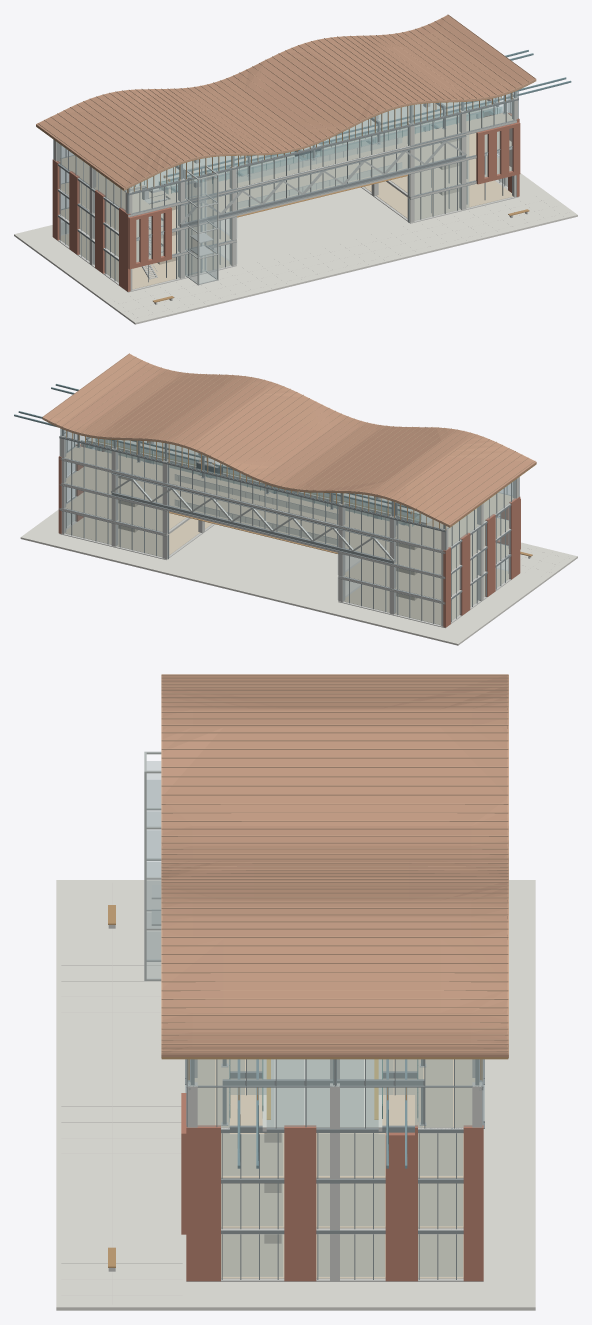
File: T1_Xinhua_Gate_V02.glb
3 renders of one model, top to bottom at view 1: azimuth 30°, elevation 25°; view 2: azimuth 150°, elevation 25°; view 3: azimuth 270°, elevation 25°, orthographic. The views are drawn at different scales.
Parts seen in each view (by area): view 1: COPPER_WAVE_ROOF_0001, DISPLAY_PLINTH_0001, FLOOR_FINISH_0005, FLOOR_FINISH_0006, STATION_PLATFORM_FINISH_0001, FLOOR_FINISH_0002, FRONT_BRICK_PIERS_0002, FRONT_BRICK_PIERS_0001, FLOOR_FINISH_0001, FLOOR_FINISH_0004, STATION_OUTER_GUARD_0001, FLOOR_FINISH_0003 (+30 smaller); view 2: COPPER_WAVE_ROOF_0001, DISPLAY_PLINTH_0001, FLOOR_FINISH_0005, FLOOR_FINISH_0006, FLOOR_FINISH_0002, FLOOR_FINISH_0003, FLOOR_FINISH_0001, FLOOR_FINISH_0004, STATION_PLATFORM_FINISH_0001, BACK_ROOF_EDGE_0001, FLOOR_SLABS_0005_transfer, FLOOR_SLABS_0006_transfer (+26 smaller); view 3: COPPER_WAVE_ROOF_0001, DISPLAY_PLINTH_0001, FLOOR_FINISH_0005, FLOOR_FINISH_0004, FLOOR_FINISH_0002, STATION_PLATFORM_FINISH_0001, SIDE_BRICK_WALLS_0005, FLOOR_FINISH_0006, SIDE_BRICK_WALLS_0006, SIDE_BRICK_WALLS_0007, SIDE_BRICK_WALLS_0008, SIDE_GLAZING_0010 (+24 smaller).
Boxes of the visible parts, box(x1,y1,x2,y2) form: COPPER_WAVE_ROOF_0001: box(36, 15, 534, 189); DISPLAY_PLINTH_0001: box(14, 173, 577, 324); FLOOR_FINISH_0005: box(61, 115, 511, 237); FLOOR_FINISH_0006: box(59, 113, 513, 212); STATION_PLATFORM_FINISH_0001: box(141, 100, 495, 190); FLOOR_FINISH_0002: box(364, 180, 512, 220); FRONT_BRICK_PIERS_0002: box(476, 122, 520, 184); FRONT_BRICK_PIERS_0001: box(128, 207, 171, 269); FLOOR_FINISH_0001: box(61, 233, 230, 289); FLOOR_FINISH_0004: box(390, 156, 511, 194); STATION_OUTER_GUARD_0001: box(172, 106, 502, 192); FLOOR_FINISH_0003: box(61, 208, 230, 261); COPPER_WAVE_ROOF_0001: box(43, 354, 536, 526); DISPLAY_PLINTH_0001: box(20, 509, 577, 645); FLOOR_FINISH_0005: box(65, 450, 509, 574); FLOOR_FINISH_0006: box(65, 446, 513, 549); FLOOR_FINISH_0002: box(65, 517, 212, 556); FLOOR_FINISH_0003: box(344, 543, 508, 599); FLOOR_FINISH_0001: box(344, 568, 508, 624); FLOOR_FINISH_0004: box(65, 491, 186, 531); STATION_PLATFORM_FINISH_0001: box(88, 438, 432, 523); BACK_ROOF_EDGE_0001: box(42, 417, 449, 527); FLOOR_SLABS_0005_transfer: box(59, 472, 510, 578); FLOOR_SLABS_0006_transfer: box(59, 446, 510, 553); COPPER_WAVE_ROOF_0001: box(161, 675, 508, 1057); DISPLAY_PLINTH_0001: box(56, 880, 535, 1310); FLOOR_FINISH_0005: box(221, 1059, 463, 1178); FLOOR_FINISH_0004: box(221, 1183, 463, 1228); FLOOR_FINISH_0002: box(221, 1234, 463, 1278); STATION_PLATFORM_FINISH_0001: box(262, 1059, 382, 1127); SIDE_BRICK_WALLS_0005: box(186, 1125, 220, 1281); FLOOR_FINISH_0006: box(194, 1059, 475, 1127); SIDE_BRICK_WALLS_0006: box(284, 1125, 316, 1281); SIDE_BRICK_WALLS_0007: box(385, 1125, 417, 1281); SIDE_BRICK_WALLS_0008: box(463, 1125, 483, 1281); SIDE_GLAZING_0010: box(223, 1234, 282, 1276).
Size of the model in its own units: 88.8 by 22.77 by 38.7.
